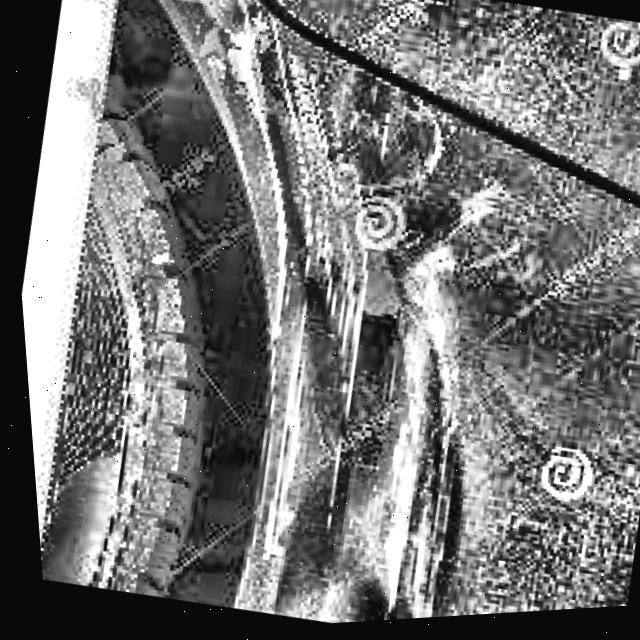door_dent: (120, 6, 543, 633), (418, 241, 640, 453)
door_scratch: (171, 62, 521, 626)
